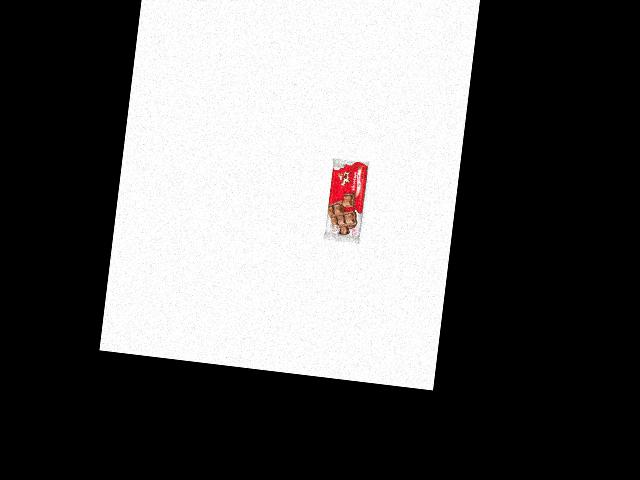chocolate: (322, 157, 369, 246)
